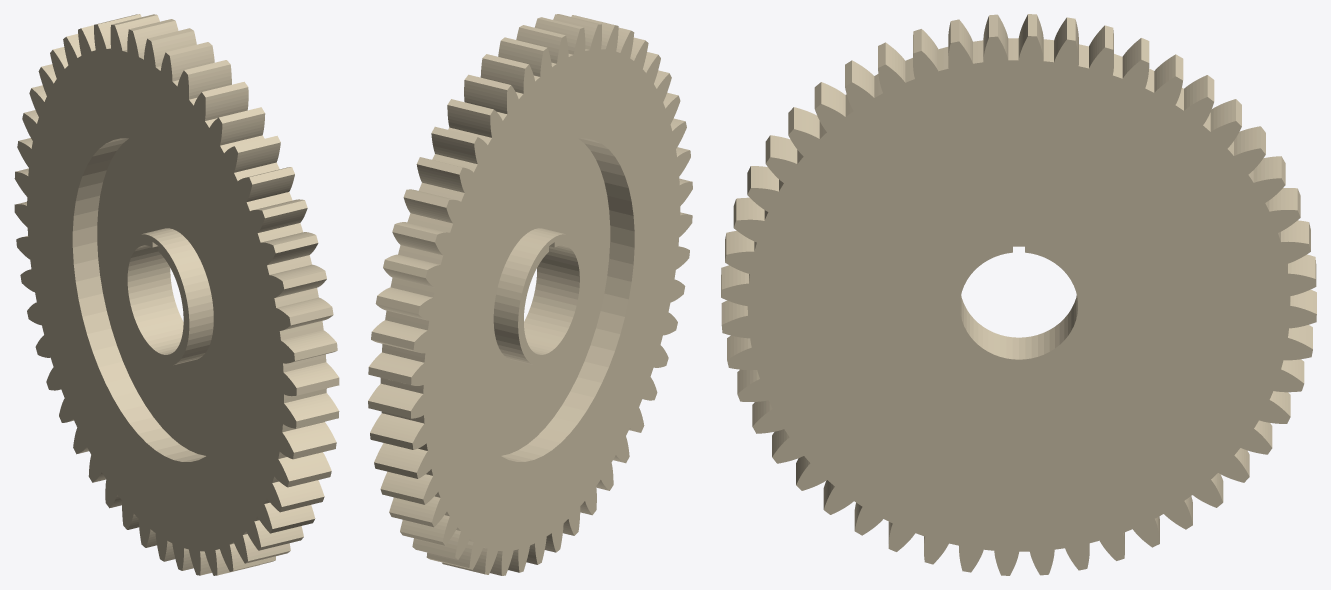
Rendered from cam-timing-gear.glb.
3 views of the same model, side by side, from view 1: azimuth 30°, elevation 25°; view 2: azimuth 150°, elevation 25°; view 3: azimuth 270°, elevation 25° (orthographic). The views are drawn at different scales.
Parts seen in each view (by area): view 1: world; view 2: world; view 3: world.
Part boxes in pixels (x1=…): world: x1=14, y1=14, x2=339, y2=575; world: x1=368, y1=14, x2=692, y2=575; world: x1=721, y1=14, x2=1316, y2=575.
Size of the model in its own units: 0.014 by 0.16 by 0.16.
